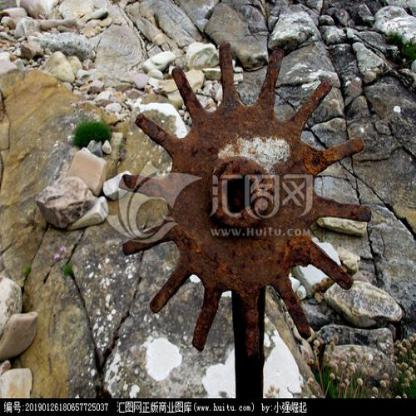FOD: (123, 39, 377, 358)
